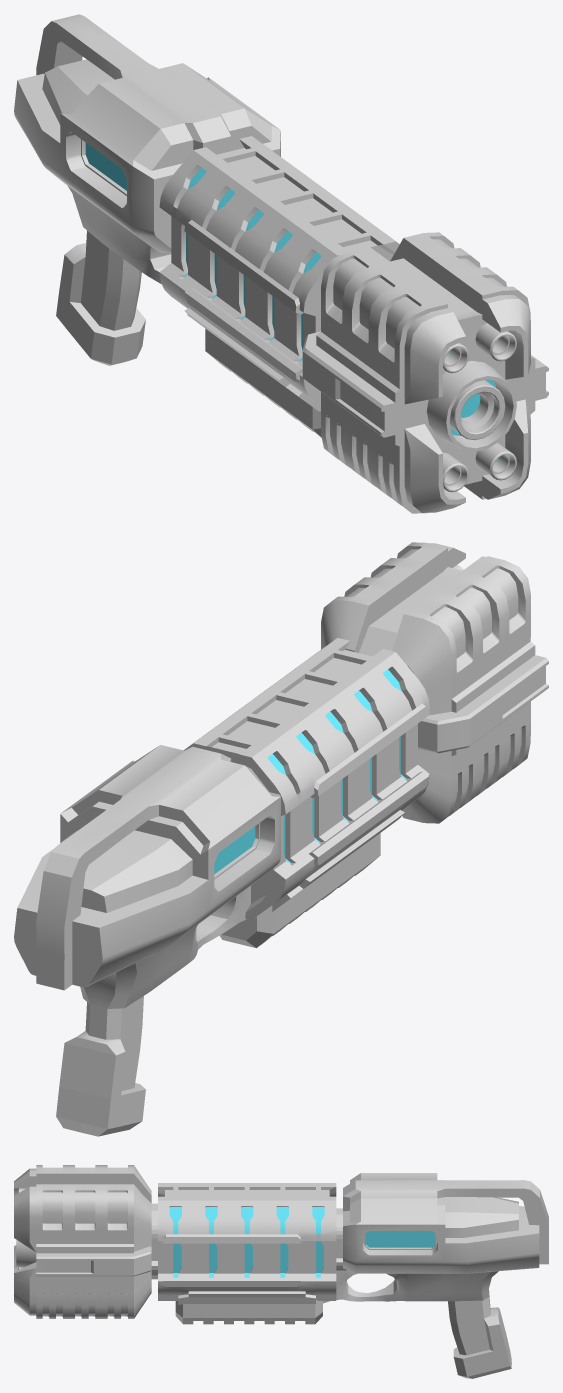
Rendered from Shotgun.fbx.
3 views of the same model, one above another, from view 1: azimuth 30°, elevation 25°; view 2: azimuth 150°, elevation 25°; view 3: azimuth 270°, elevation 25° (orthographic). The views are drawn at different scales.
Visible parts, largest first — view 1: Shotgun; view 2: Shotgun; view 3: Shotgun.
Part boxes in pixels (bbox=[...]): Shotgun: bbox=[14, 14, 548, 513]; Shotgun: bbox=[14, 542, 548, 1136]; Shotgun: bbox=[14, 1165, 548, 1378].
Size of the model in its own units: 204 by 369 by 911.
